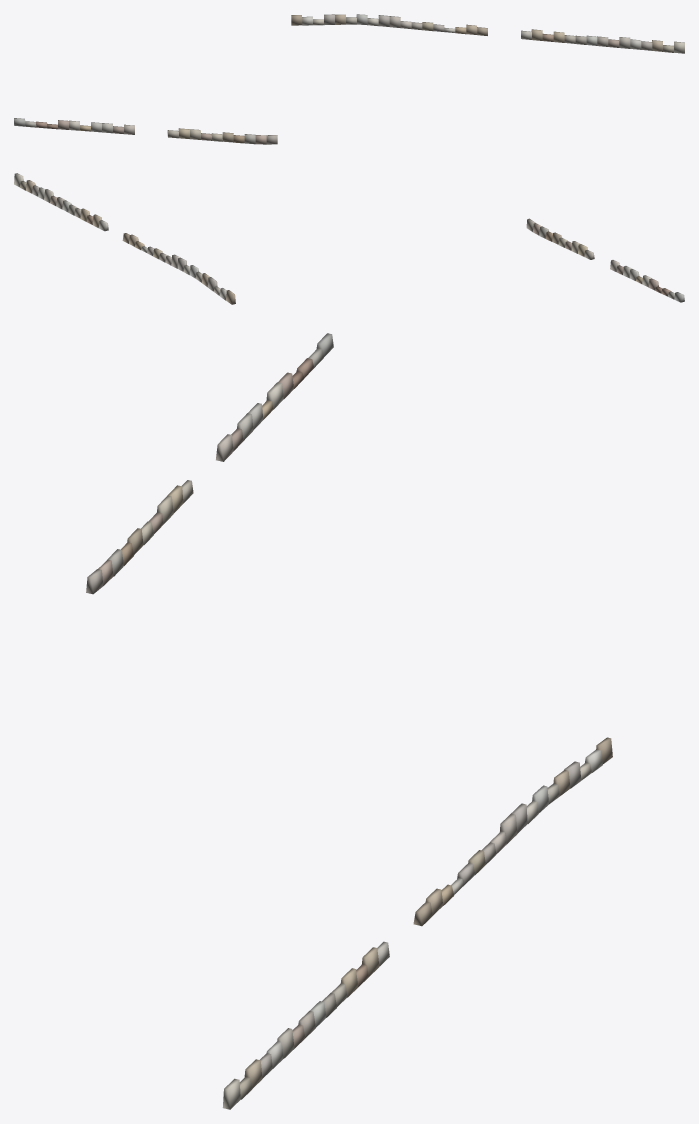
Rendered from farm_8_22_collision.glb.
The picture shows the model from 3 angles, top to bottom: view 1: azimuth 30°, elevation 25°; view 2: azimuth 150°, elevation 25°; view 3: azimuth 270°, elevation 25°; orthographic projection. The views are drawn at different scales.
Parts seen in each view (by area): view 1: geometry_0; view 2: geometry_0; view 3: geometry_0.
Part boxes in pixels (x1,y1,x2,y2): geometry_0: (14, 14, 684, 144); geometry_0: (14, 173, 684, 304); geometry_0: (86, 333, 612, 1109).
Size of the model in its own units: 107 by 11.56 by 37.87.
